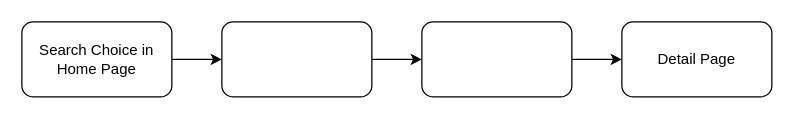
This 794x119 diagram has some shape labels left out. The box of each missing label's shape, as (x1, y1, x2, y2) in pixels:
List estates Page Integrate Map: (421, 21, 572, 97)
Process param for API: (221, 21, 372, 97)
